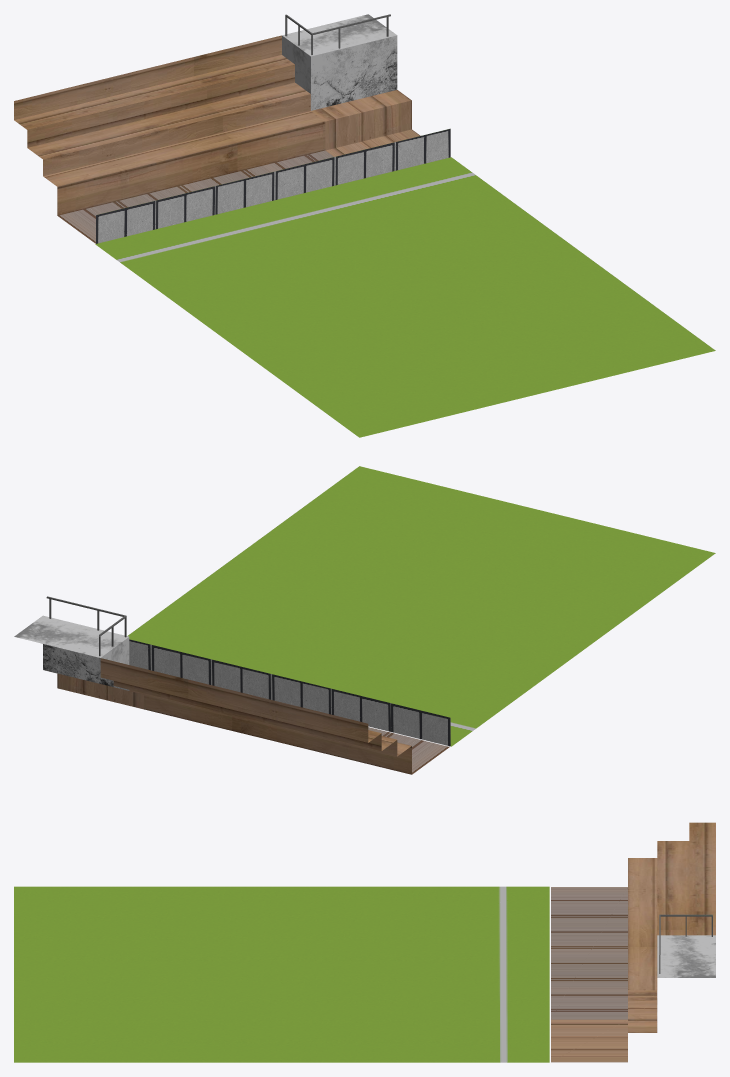
3 views of the same model, one above another, from view 1: azimuth 30°, elevation 25°; view 2: azimuth 150°, elevation 25°; view 3: azimuth 270°, elevation 25° (orthographic).
Visible parts, largest first — view 1: BG 2, BG 2.002, BG 2.001; view 2: BG 2, BG 2.002, BG 2.001, FENCE; view 3: BG 2, BG 2.002.
Part boxes in pixels (left/top/right/bottom): BG 2: left=95, top=157, right=715, bottom=437; BG 2.002: left=14, top=14, right=420, bottom=243; BG 2.001: left=96, top=128, right=450, bottom=243; BG 2: left=127, top=466, right=715, bottom=746; BG 2.002: left=14, top=615, right=449, bottom=774; BG 2.001: left=129, top=639, right=450, bottom=746; FENCE: left=46, top=596, right=126, bottom=658; BG 2: left=14, top=886, right=549, bottom=1062; BG 2.002: left=551, top=822, right=715, bottom=1062.
Size of the model in its own units: 27.8 by 7.79 by 46.79.
Materials: 1 (1 with a texture image).
